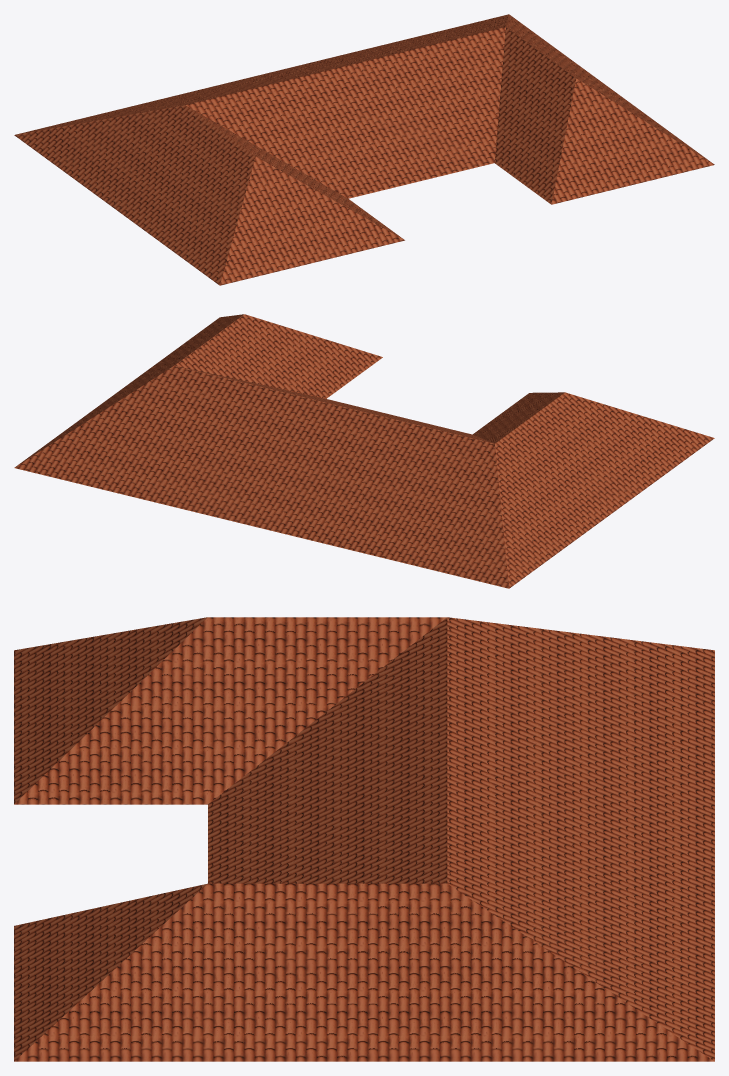
File: maison2_roof.dae
The picture shows the model from 3 angles, top to bottom: view 1: azimuth 30°, elevation 25°; view 2: azimuth 150°, elevation 25°; view 3: azimuth 270°, elevation 25°; orthographic projection. The views are drawn at different scales.
Parts seen in each view (by area): view 1: group_0; view 2: group_0; view 3: group_0.
Boxes of the visible parts, x1,y1,x2,y2 form: group_0: (14,14,714,285); group_0: (14,314,714,588); group_0: (14,617,714,1061).
Size of the model in its own units: 472 by 340 by 59.06.
Materials: 1 (1 with a texture image).
